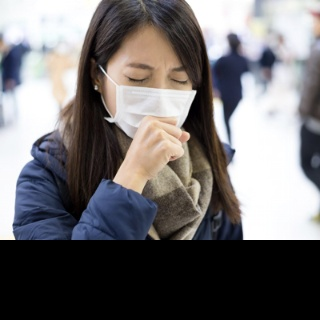with_mask: (105, 60, 196, 140)
